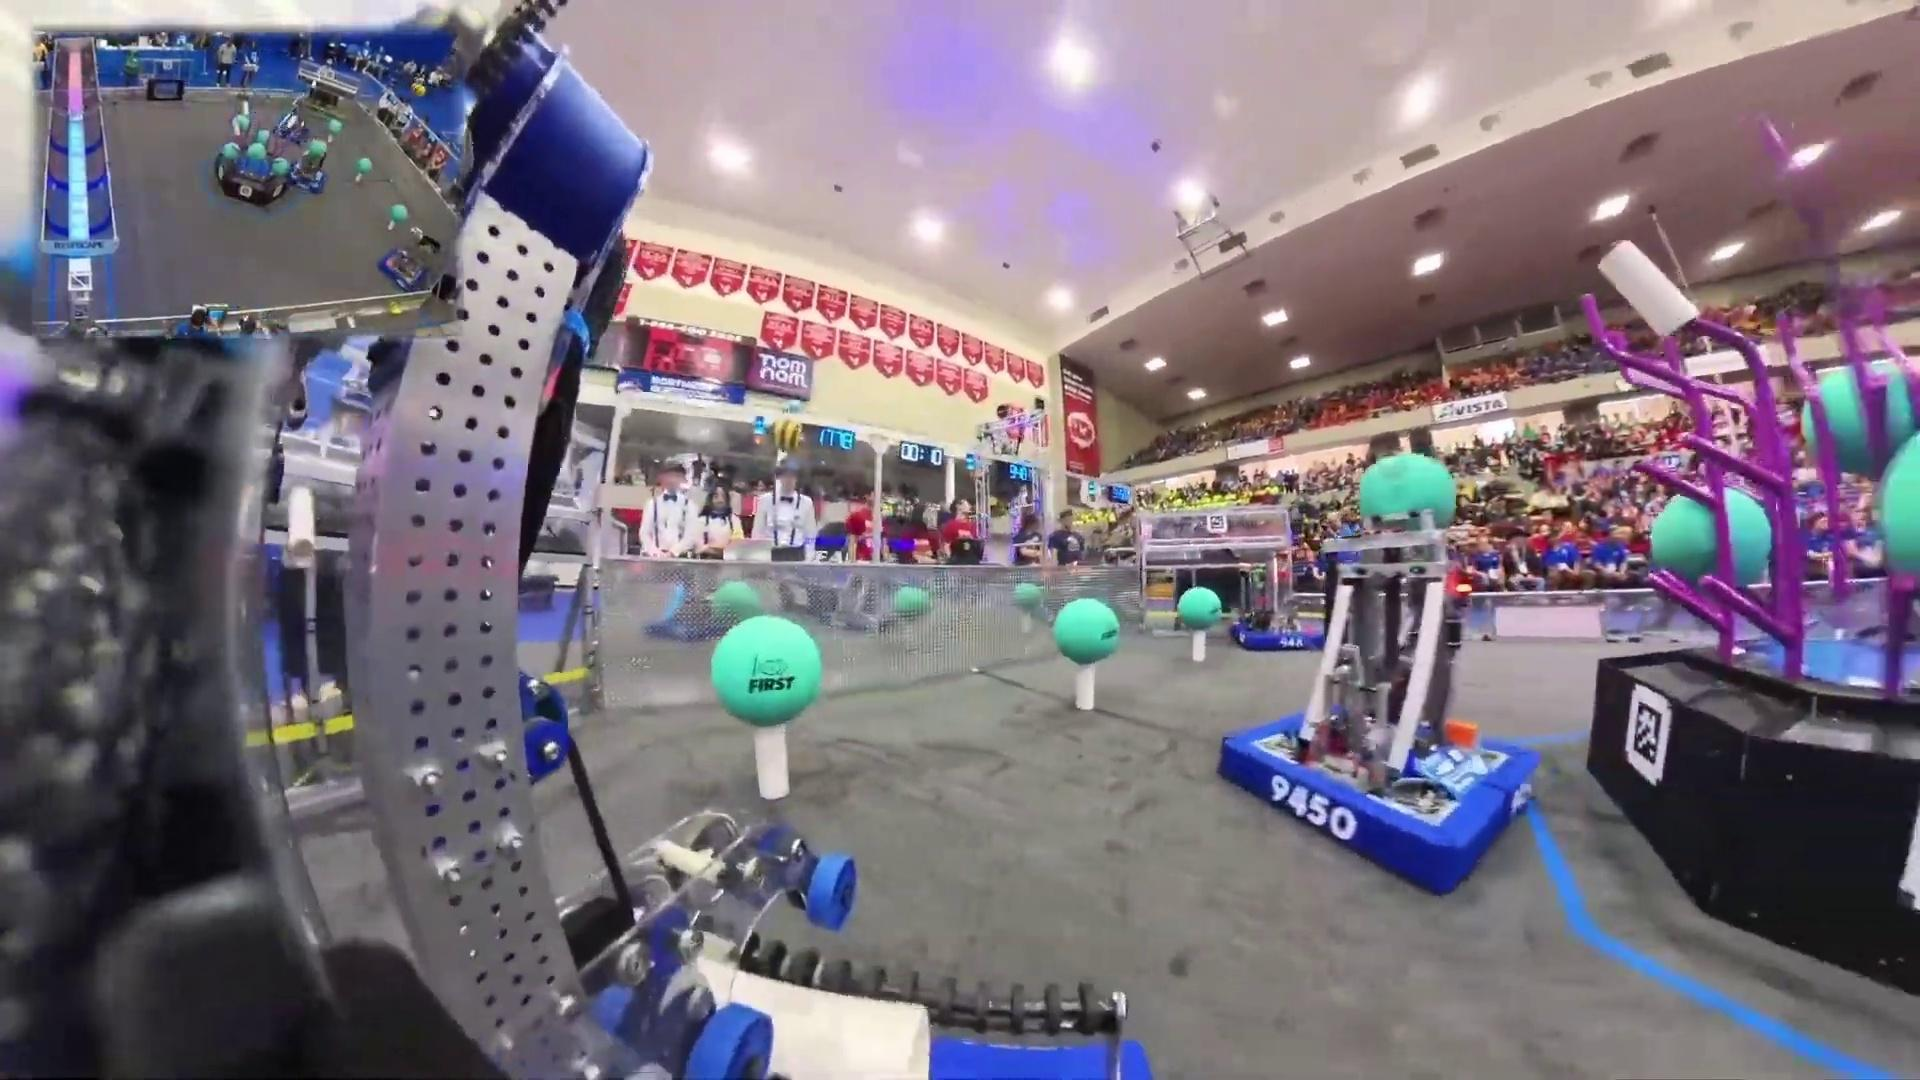robot: (1220, 512, 1542, 895), (1229, 549, 1325, 653), (380, 231, 434, 291), (289, 141, 328, 195), (272, 107, 311, 145)
